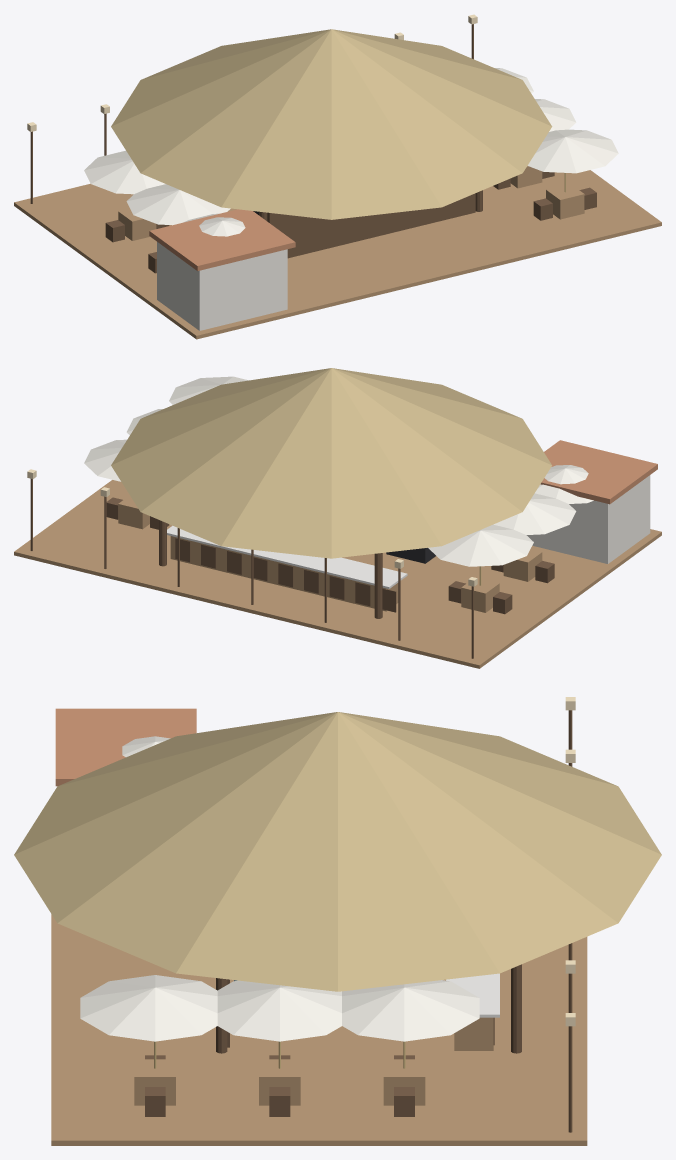
Rendered from E2-7_quiosque.fbx.
3 views of the same model, one above another, from view 1: azimuth 30°, elevation 25°; view 2: azimuth 150°, elevation 25°; view 3: azimuth 270°, elevation 25° (orthographic). The views are drawn at different scales.
Parts seen in each view (by area): view 1: E2-7_quiosque; view 2: E2-7_quiosque; view 3: E2-7_quiosque.
Part boxes in pixels (<box>): E2-7_quiosque: <box>14,14,661,339</box>; E2-7_quiosque: <box>14,368,661,668</box>; E2-7_quiosque: <box>14,697,661,1145</box>.
Bounding box in the file's own units: 19 × 7.1 × 15.6.
